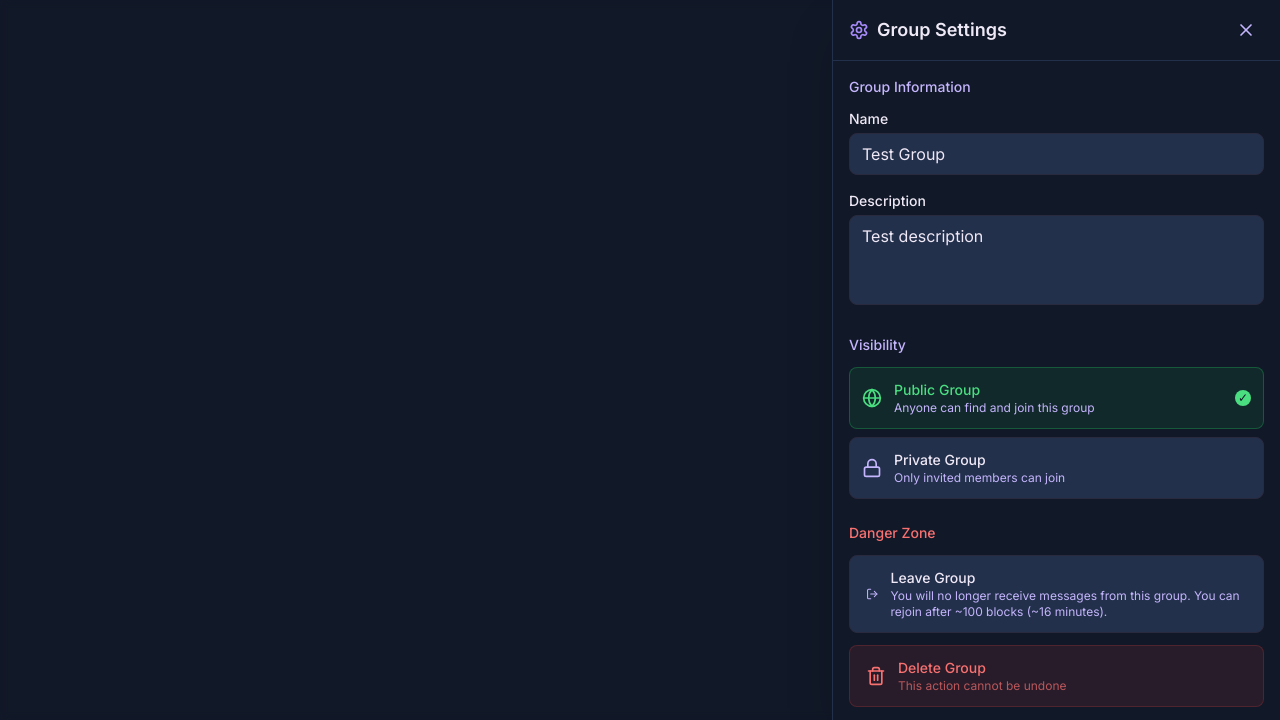
Test case: GroupSettingsPanel › Leave Group › should open confirmation dialog when Leave is clicked
This screenshot has width=1280, height=720.
Click the button "Leave Group": (1056, 594) [849,555,1264,633]
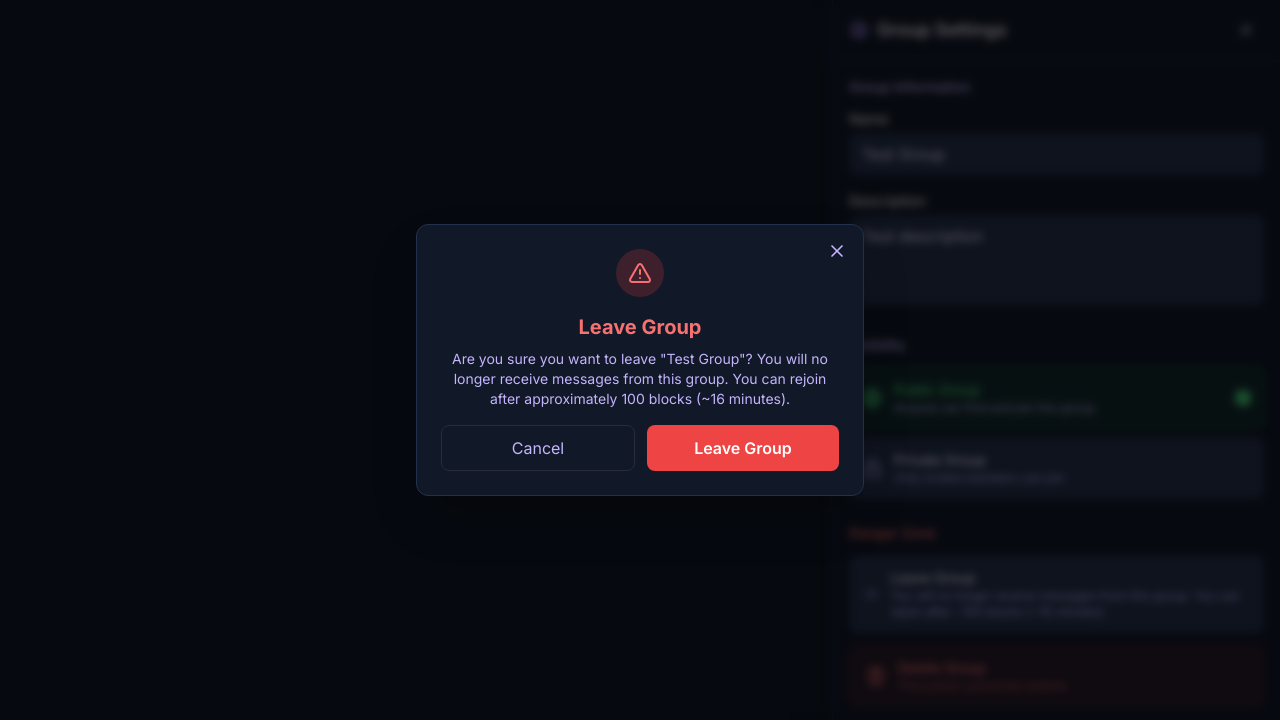
Expected: the text "Are you sure you want to leave" is shown, [452,350,828,407]
